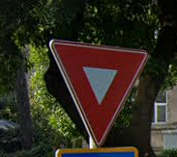cedeaza: (41, 36, 151, 150)
